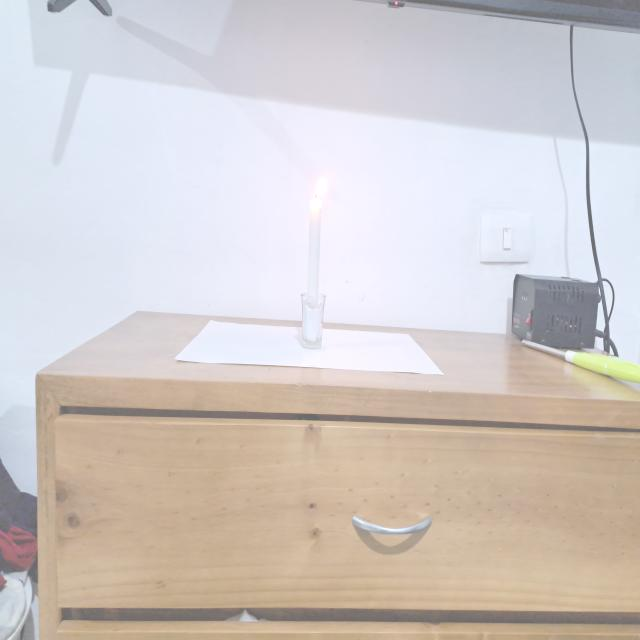candle: (300, 166, 332, 352)
